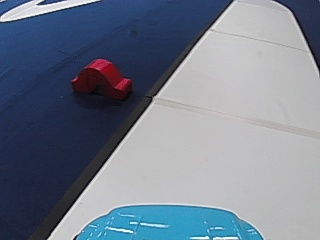bridge: (69, 55, 134, 101)
